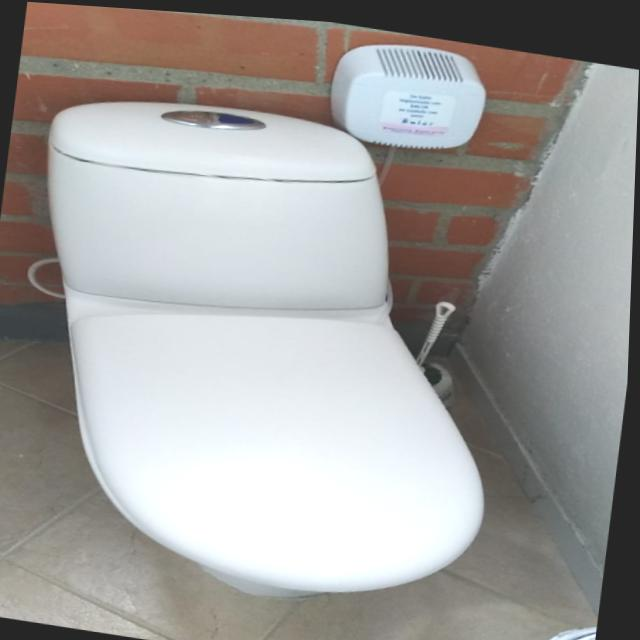toilet: (0, 74, 531, 623)
